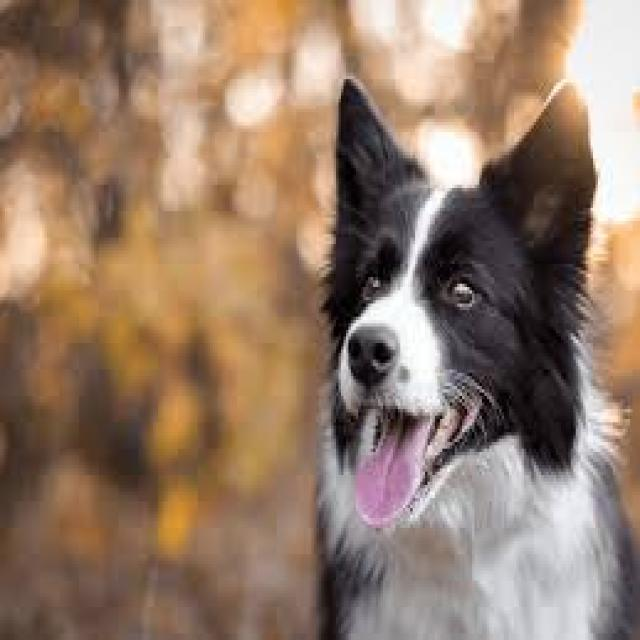BORDER_COLLIE: (301, 61, 640, 640)
